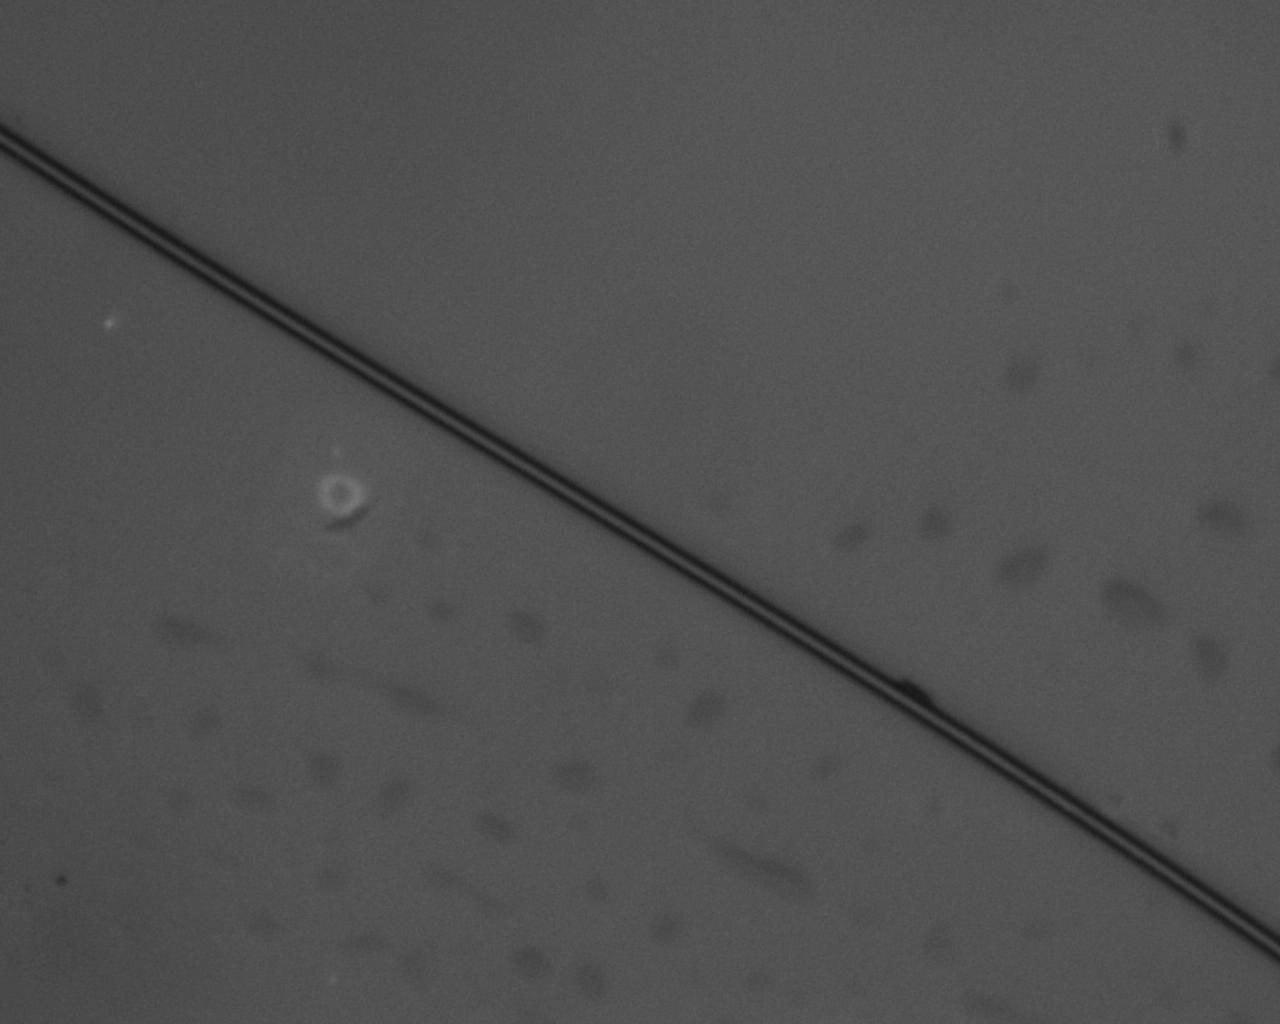fiber: (862, 368, 1148, 1024), (375, 0, 646, 368), (0, 368, 46, 1024)
